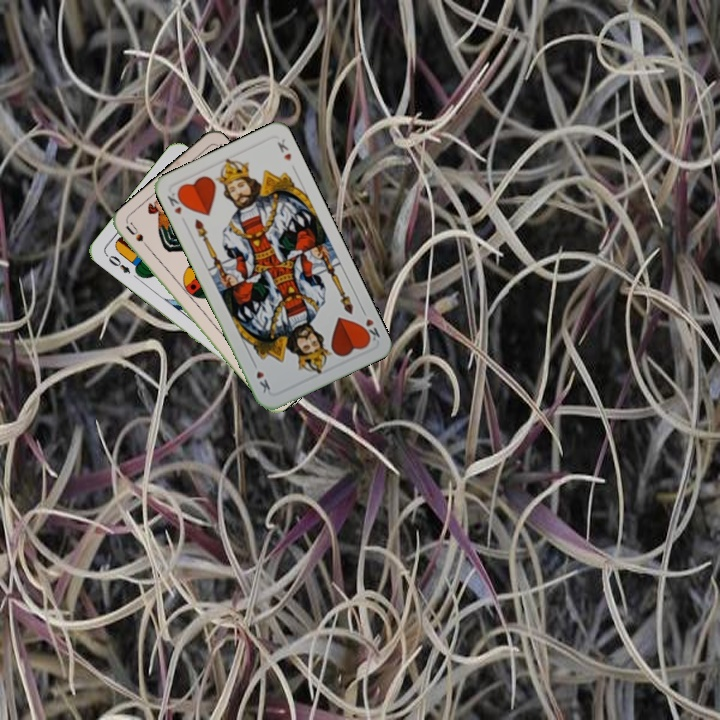EO: (102, 250, 133, 276)
HK: (357, 305, 383, 345), (163, 186, 188, 217)
SU: (122, 219, 154, 255)
